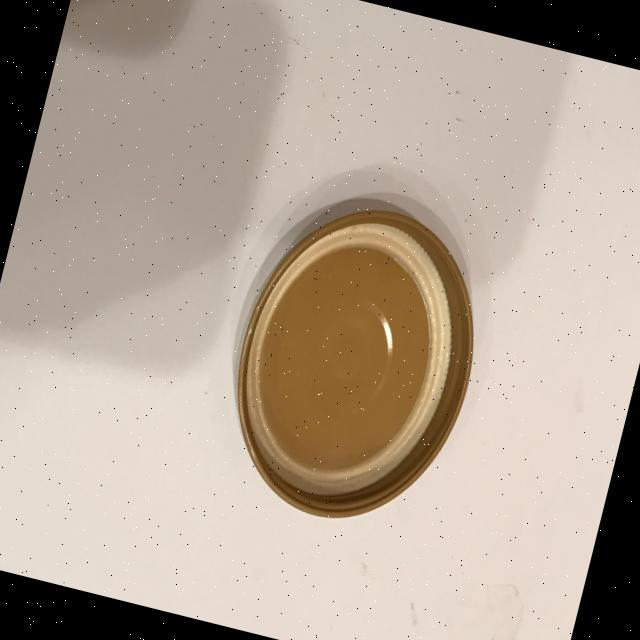metal: (205, 182, 504, 544)
